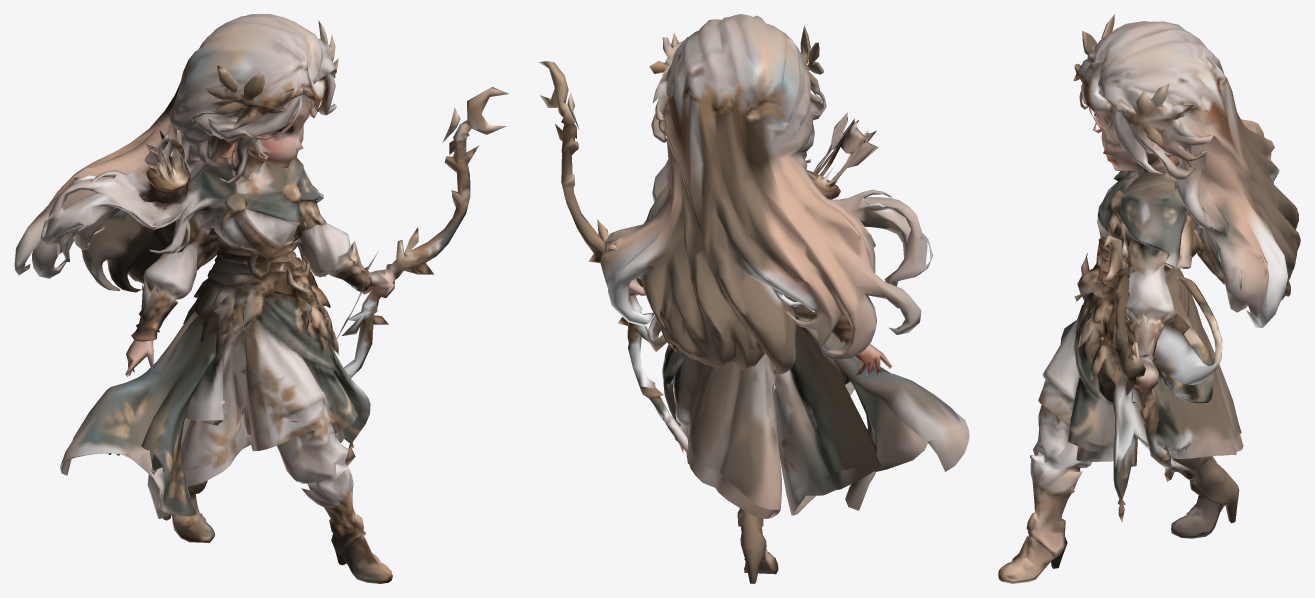
Rendered from artemis_painted.glb.
The picture shows the model from 3 angles, left to right: view 1: azimuth 30°, elevation 25°; view 2: azimuth 150°, elevation 25°; view 3: azimuth 270°, elevation 25°; orthographic projection.
Visible parts, largest first — view 1: Body; view 2: Body; view 3: Body.
Part boxes in pixels (x1,y1,x2,y2): Body: (14,14,508,583); Body: (538,14,969,583); Body: (998,14,1300,583).
Bounding box in the file's own units: 0.8816 × 1 × 0.5218.
1 material, 1 textured.
